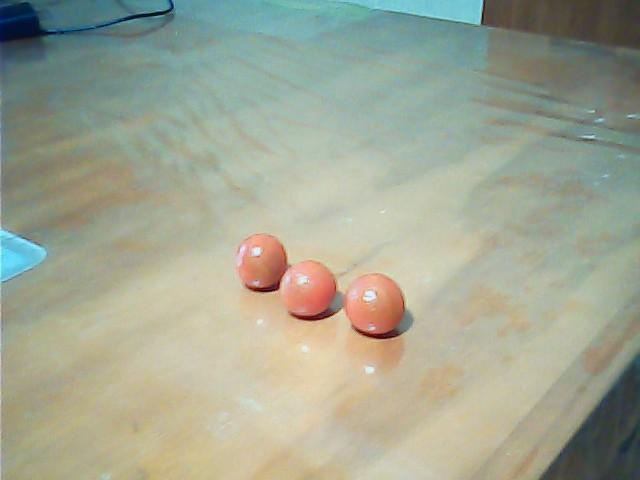maduro: (344, 274, 406, 338), (280, 260, 337, 317), (237, 232, 288, 289)
